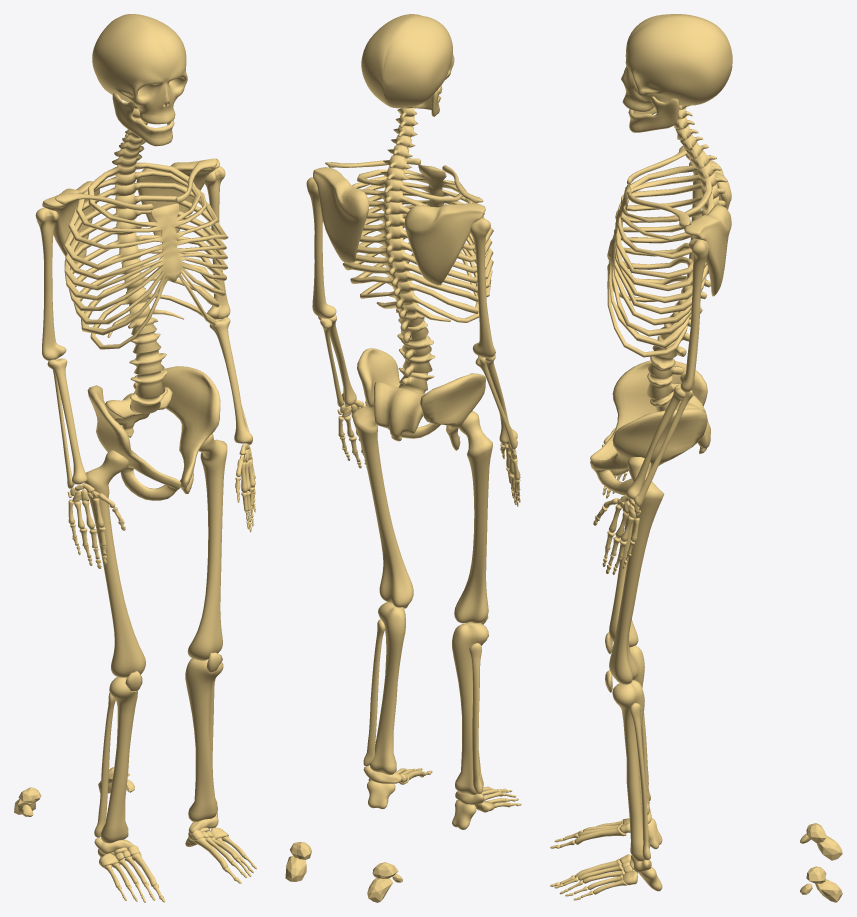
Rendered from simple_skelington_v2.fbx.
The picture shows the model from 3 angles, left to right: view 1: azimuth 30°, elevation 25°; view 2: azimuth 150°, elevation 25°; view 3: azimuth 270°, elevation 25°; orthographic projection. The views are drawn at different scales.
Parts seen in each view (by area): view 1: coller bone; view 2: coller bone, caff1.002, caff1.001; view 3: coller bone, caff1.002, caff1.001.
Boxes of the visible parts, left/top/right/bottom form: coller bone: left=35, top=14, right=256, bottom=902; coller bone: left=306, top=14, right=521, bottom=829; caff1.002: left=285, top=856, right=402, bottom=902; caff1.001: left=290, top=842, right=398, bottom=878; coller bone: left=550, top=14, right=732, bottom=900; caff1.002: left=800, top=833, right=842, bottom=902; caff1.001: left=806, top=823, right=826, bottom=883.
Size of the model in its own units: 97.22 by 417 by 128.
